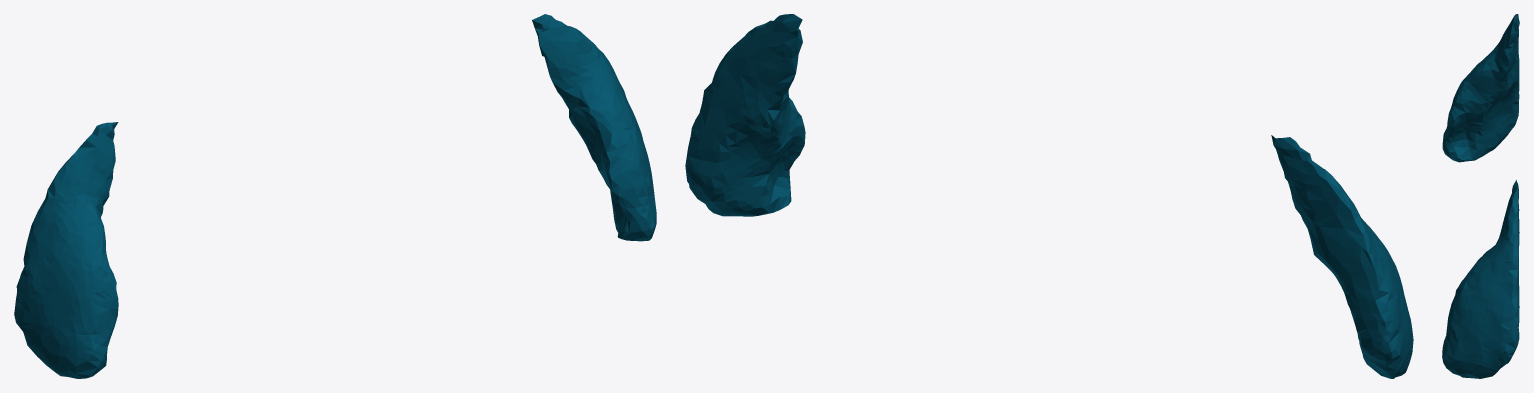
File: 165-6VR(F5)-area 6 of cortex, ventral part, rostral subdivision (Matellis F5)-('0.0000', '0.3843', '0.4980').obj
The picture shows the model from 3 angles, left to right: view 1: azimuth 30°, elevation 25°; view 2: azimuth 150°, elevation 25°; view 3: azimuth 270°, elevation 25°; orthographic projection. The views are drawn at different scales.
Size of the model in its own units: 329 by 109 by 45.1.
